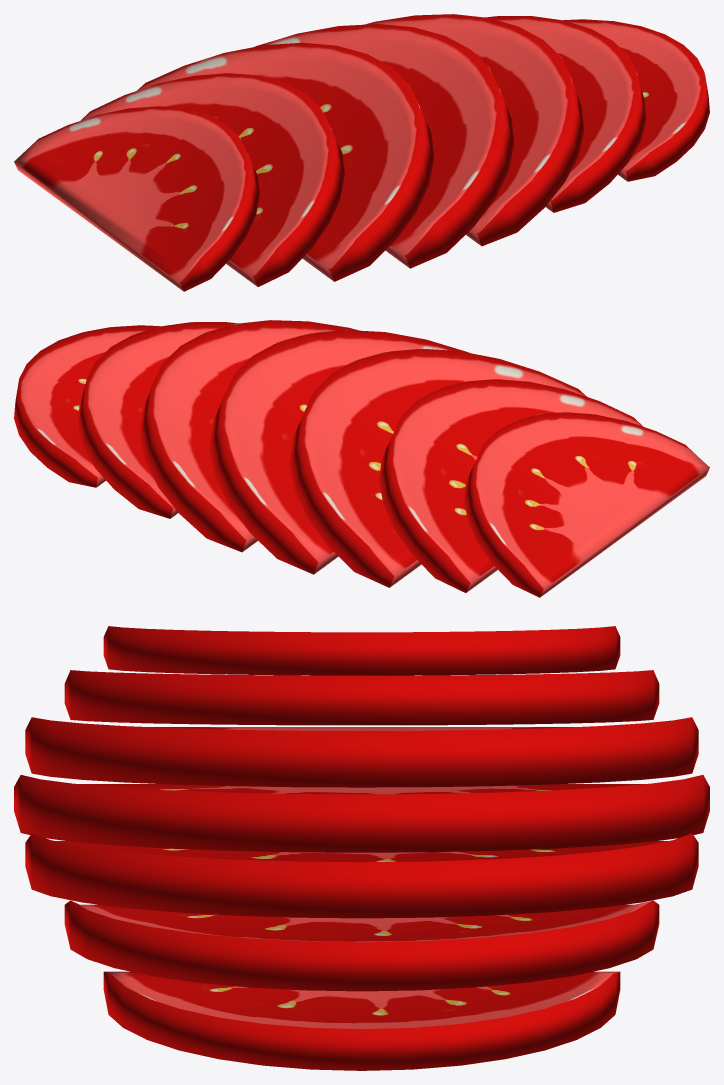
The model's file is DogranmisDomates.fbx.
The picture shows the model from 3 angles, top to bottom: view 1: azimuth 30°, elevation 25°; view 2: azimuth 150°, elevation 25°; view 3: azimuth 270°, elevation 25°; orthographic projection. The views are drawn at different scales.
Parts seen in each view (by area): view 1: Circle; view 2: Circle; view 3: Circle.
Boxes of the visible parts, <box> form: Circle: <box>14,14,709,291</box>; Circle: <box>14,320,709,597</box>; Circle: <box>14,626,709,1070</box>.
Bounding box in the file's own units: 1.38 × 0.2156 × 0.9025.
Materials: 1 (1 with a texture image).
